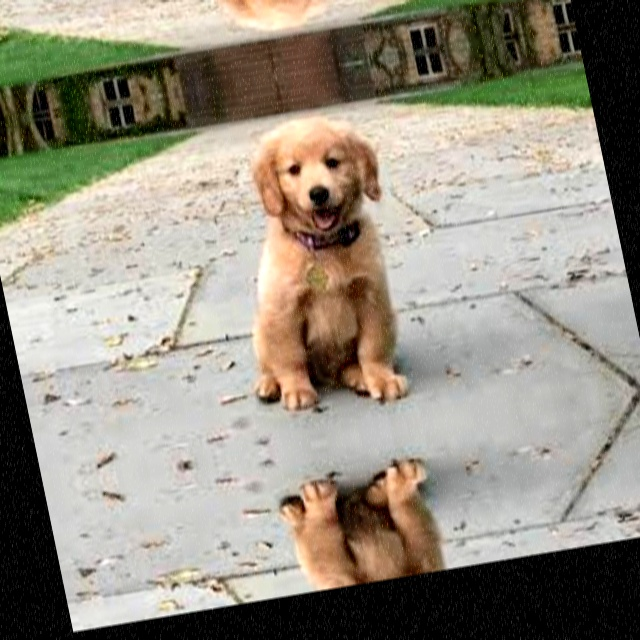dog: (196, 102, 435, 427), (267, 449, 469, 596), (158, 0, 357, 49)
